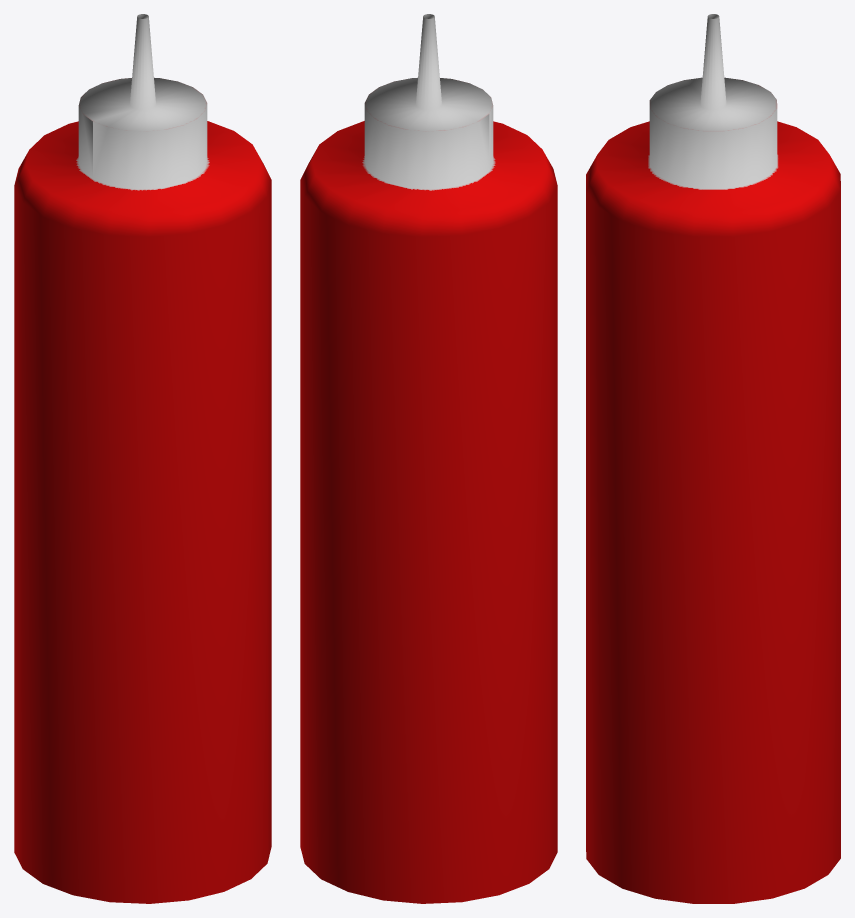
Rendered from Squeeze_Bottle_MDL.fbx.
3 renders of one model, left to right at view 1: azimuth 30°, elevation 25°; view 2: azimuth 150°, elevation 25°; view 3: azimuth 270°, elevation 25°, orthographic.
Parts seen in each view (by area): view 1: squirt_bottle; view 2: squirt_bottle; view 3: squirt_bottle.
Boxes of the visible parts, bbox=[...] form: squirt_bottle: bbox=[14, 14, 271, 903]; squirt_bottle: bbox=[300, 14, 557, 903]; squirt_bottle: bbox=[586, 14, 840, 903].
Size of the model in its own units: 5.87 by 21.19 by 5.87.
